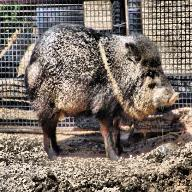boar: (23, 23, 178, 161)
